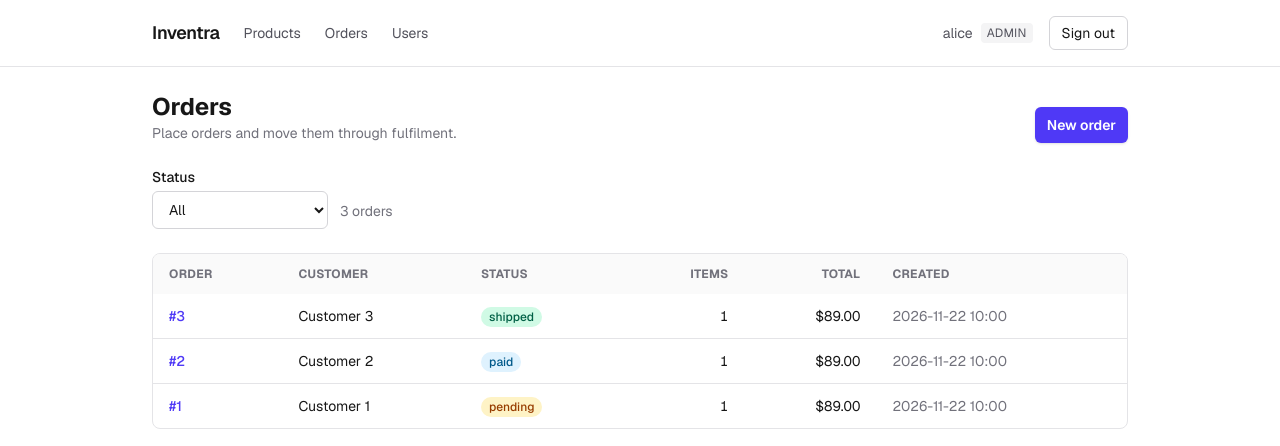
Scenario: OrdersPage when the user comes back to it (#37) › reloads with the status still applied after a filter failed
Expected: the link "#1" is shown, x1=169 y1=397 x2=182 y2=415
Select "paid" in the dropdown labelled "Status": [240, 210] box x1=152 y1=191 x2=328 y2=229
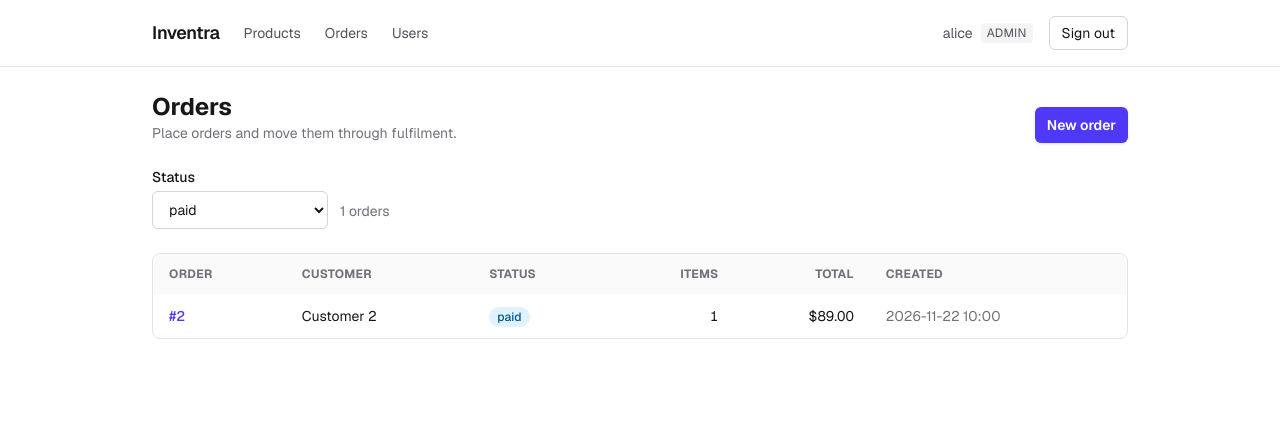
Select "shipped" in the dropdown labelled "Status": [240, 210] box x1=152 y1=191 x2=328 y2=229
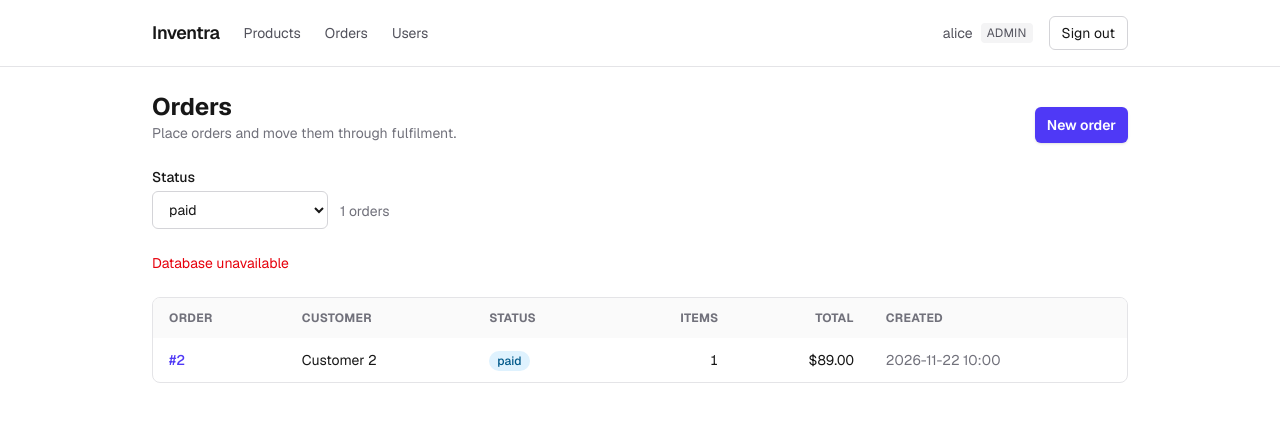
Result: the message "Database unavailable" is shown at x1=152 y1=254 x2=289 y2=272
